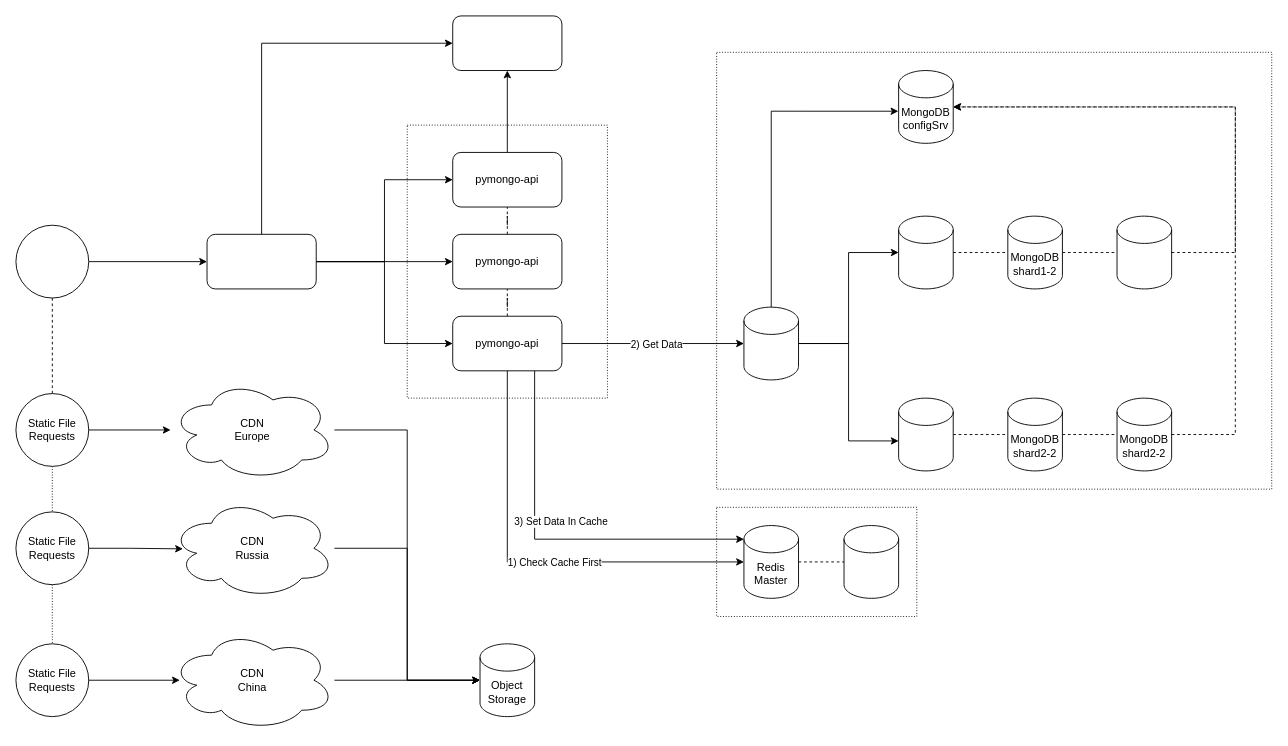
Some shapes in this 1288 by 746 pixel diagram are drawn without their labels. Each missing label, with the box of its shape:
API Gateway: (206, 233, 316, 289)
Consul: (452, 15, 562, 71)
MongoDB router: (743, 306, 799, 380)
MongoDB shard1-1: (898, 215, 953, 289)
MongoDB shard1-3: (1116, 215, 1172, 289)
MongoDB shard2-1: (898, 397, 953, 471)
Redis Slave: (843, 525, 899, 598)
Requests: (15, 224, 89, 298)
